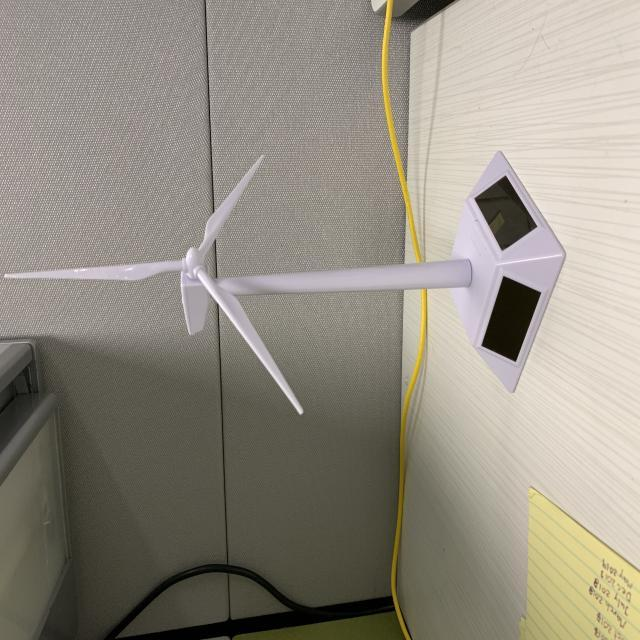solid-blade: (198, 270, 302, 414), (199, 155, 263, 256), (5, 260, 182, 281), (183, 271, 209, 334)
